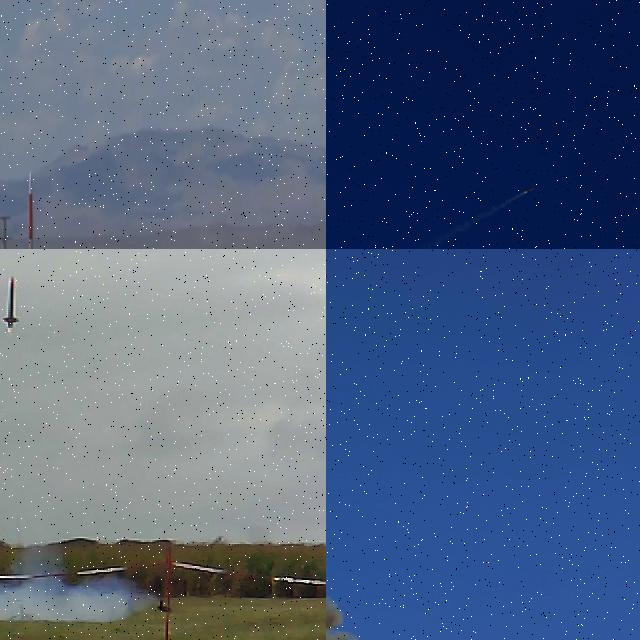Rocket: (2, 274, 19, 330), (25, 169, 35, 249), (523, 186, 536, 194)
